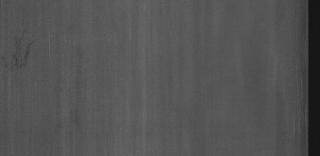water spot: (8, 28, 38, 70)
